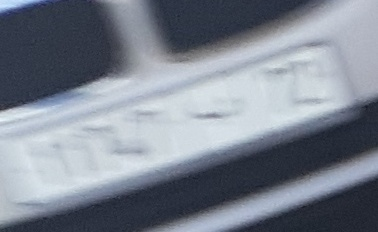b: (182, 97, 258, 132)
